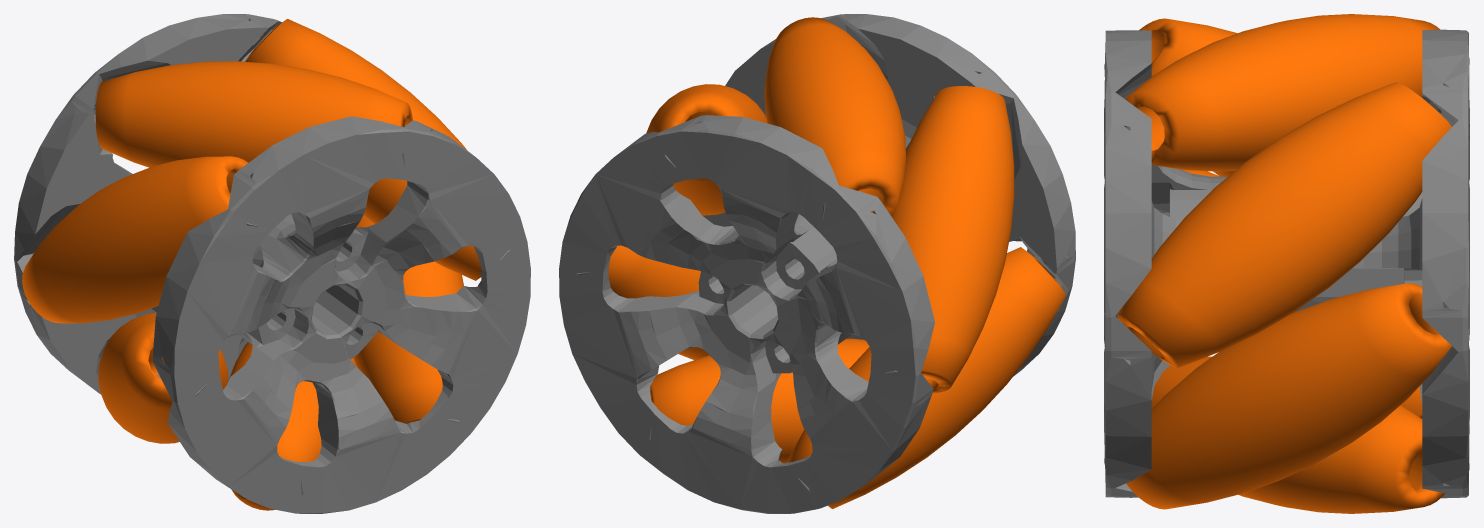
File: front-right_wheel.dae
The picture shows the model from 3 angles, left to right: view 1: azimuth 30°, elevation 25°; view 2: azimuth 150°, elevation 25°; view 3: azimuth 270°, elevation 25°; orthographic projection. The views are drawn at different scales.
Parts seen in each view (by area): view 1: front-right_wheel; view 2: front-right_wheel; view 3: front-right_wheel.
Part boxes in pixels (x1,y1,x2,y2): front-right_wheel: [14, 14, 530, 513]; front-right_wheel: [559, 14, 1075, 513]; front-right_wheel: [1104, 14, 1469, 513].
Bounding box in the file's own units: 0.0999 × 0.0731 × 0.0997.
